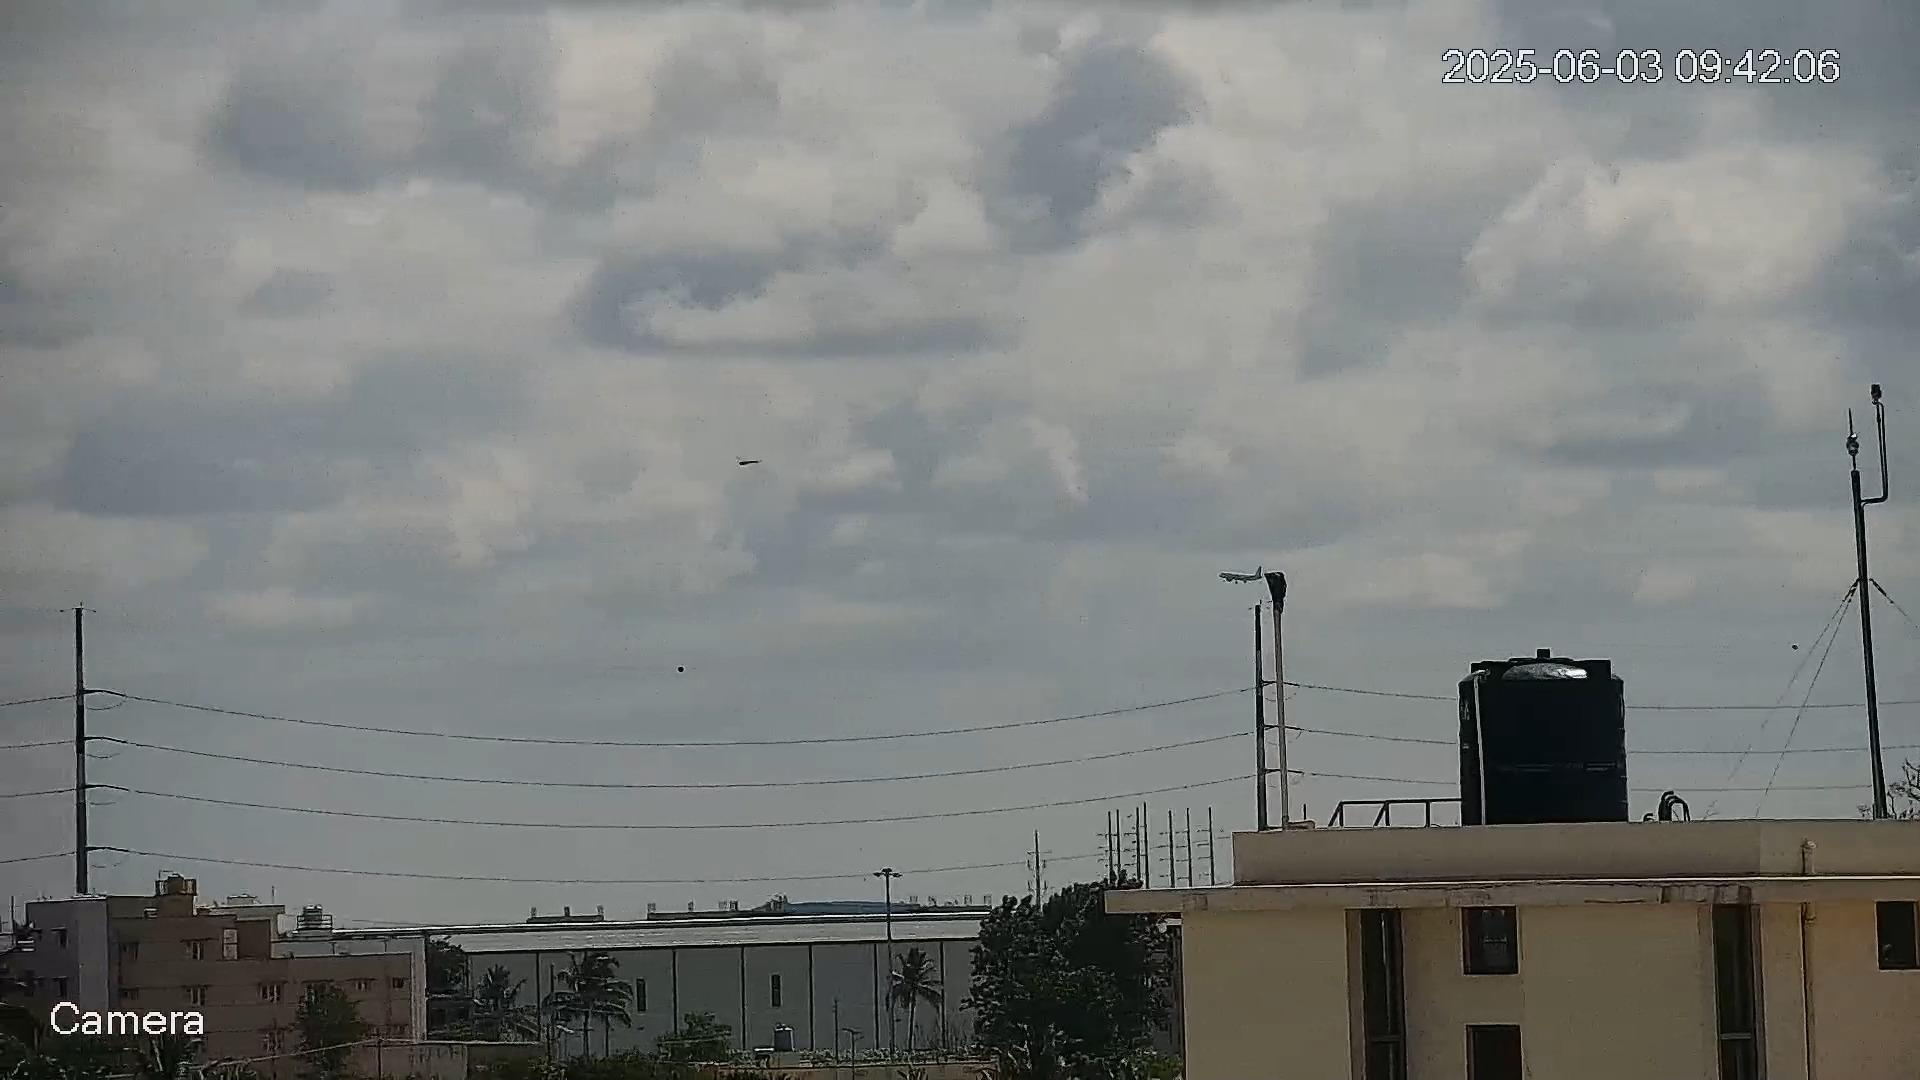Aircraft: (1217, 566, 1263, 584)
